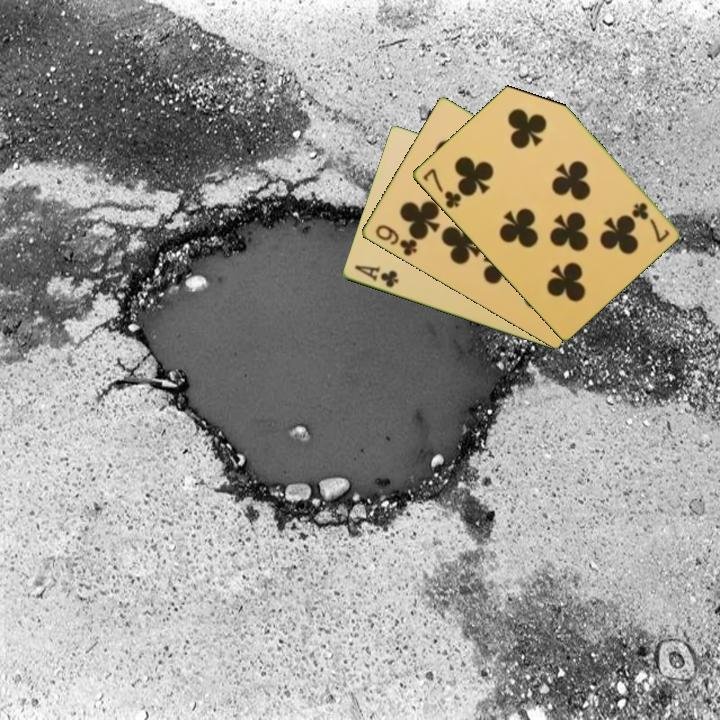7c: (419, 165, 464, 212), (628, 199, 672, 245)
9c: (371, 221, 420, 259)
Ac: (351, 262, 401, 291)
